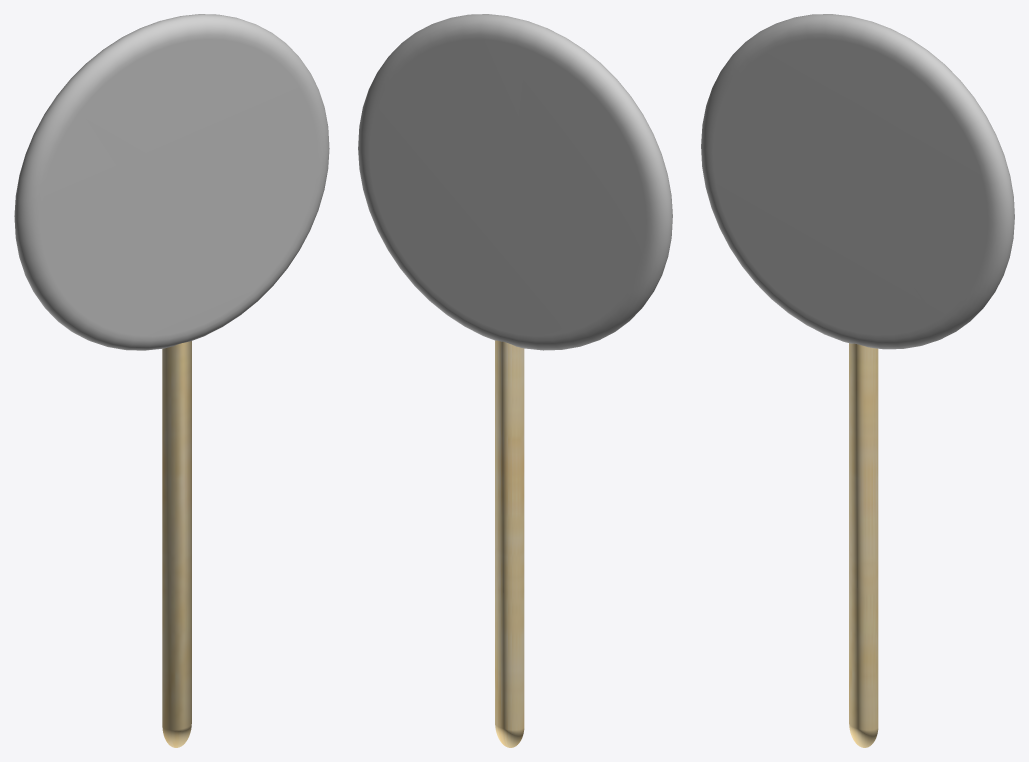
File: candy_lollipop.fbx
3 views of the same model, side by side, from view 1: azimuth 30°, elevation 25°; view 2: azimuth 150°, elevation 25°; view 3: azimuth 330°, elevation 25° (orthographic).
Visible parts, largest first — view 1: candy_lollipop, candy_lollipop_ste; view 2: candy_lollipop, candy_lollipop_ste; view 3: candy_lollipop, candy_lollipop_ste.
Part boxes in pixels (bbox=[...]): candy_lollipop: bbox=[14, 14, 329, 350]; candy_lollipop_ste: bbox=[162, 341, 191, 747]; candy_lollipop: bbox=[358, 14, 672, 350]; candy_lollipop_ste: bbox=[495, 340, 524, 747]; candy_lollipop: bbox=[701, 14, 1014, 349]; candy_lollipop_ste: bbox=[849, 343, 878, 747].
Size of the model in its own units: 0.2713 by 0.6064 by 0.0224.
